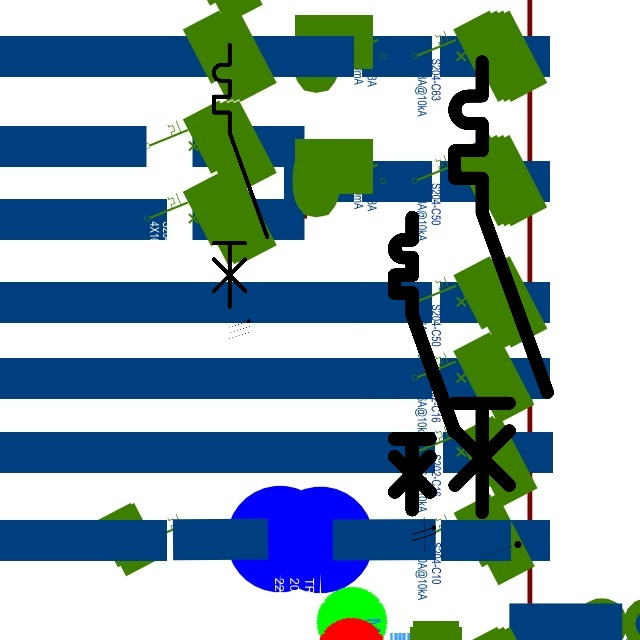interruptor_termomagnetico: (443, 50, 559, 524), (387, 210, 462, 517), (207, 38, 274, 314)
